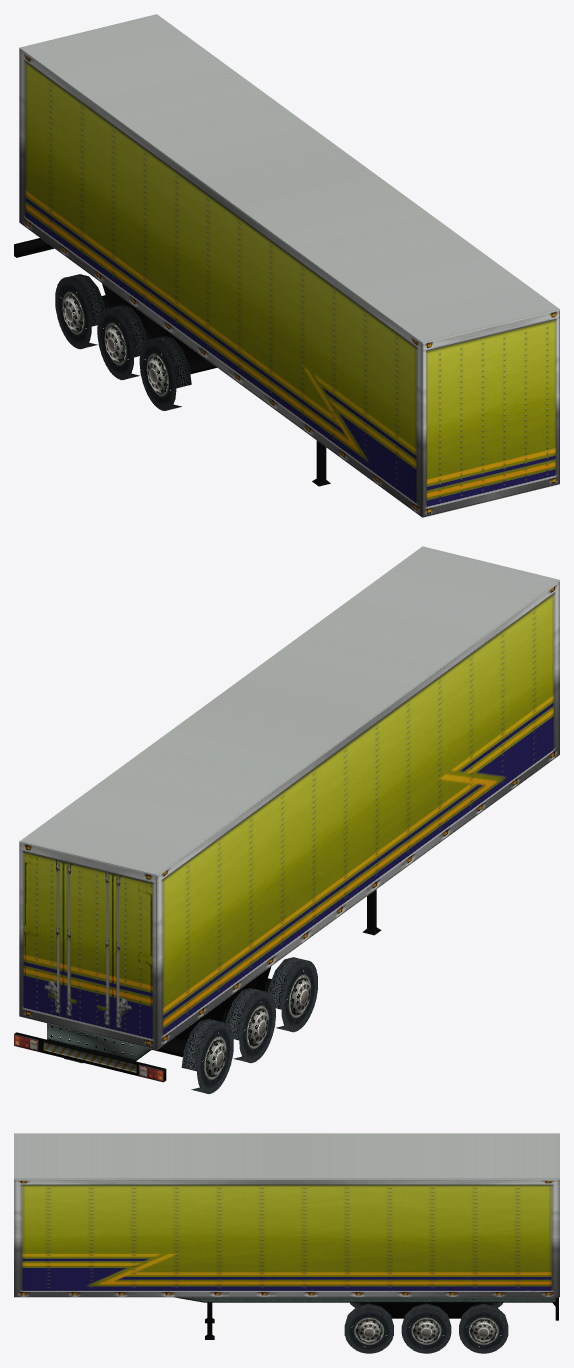
The model's file is trailer.glb.
3 views of the same model, one above another, from view 1: azimuth 30°, elevation 25°; view 2: azimuth 150°, elevation 25°; view 3: azimuth 270°, elevation 25° (orthographic). The views are drawn at different scales.
Visible parts, largest first — view 1: body_0, wheel_B_R1_5, wheel_B_R2_6, wheel_B_R3_7; view 2: body_0, wheel_B_R3_7, wheel_B_R2_6, wheel_B_R1_5, bumper_B_2; view 3: body_0, wheel_B_L2_3, wheel_B_L1_4, wheel_B_L3_1.
Boxes of the visible parts, x1=… form: body_0: x1=19, y1=14, x2=559, y2=517; wheel_B_R1_5: x1=139, y1=336, x2=191, y2=410; wheel_B_R2_6: x1=97, y1=305, x2=147, y2=379; wheel_B_R3_7: x1=55, y1=274, x2=105, y2=349; body_0: x1=19, y1=546, x2=559, y2=1061; wheel_B_R3_7: x1=181, y1=1019, x2=233, y2=1093; wheel_B_R2_6: x1=225, y1=988, x2=275, y2=1063; wheel_B_R1_5: x1=268, y1=957, x2=317, y2=1032; bumper_B_2: x1=14, y1=1032, x2=166, y2=1082; body_0: x1=14, y1=1133, x2=559, y2=1320; wheel_B_L2_3: x1=401, y1=1303, x2=451, y2=1353; wheel_B_L1_4: x1=344, y1=1303, x2=393, y2=1353; wheel_B_L3_1: x1=459, y1=1303, x2=508, y2=1353.
Size of the model in its own units: 2.76 by 4.43 by 12.6.
17 materials, 15 textured.
